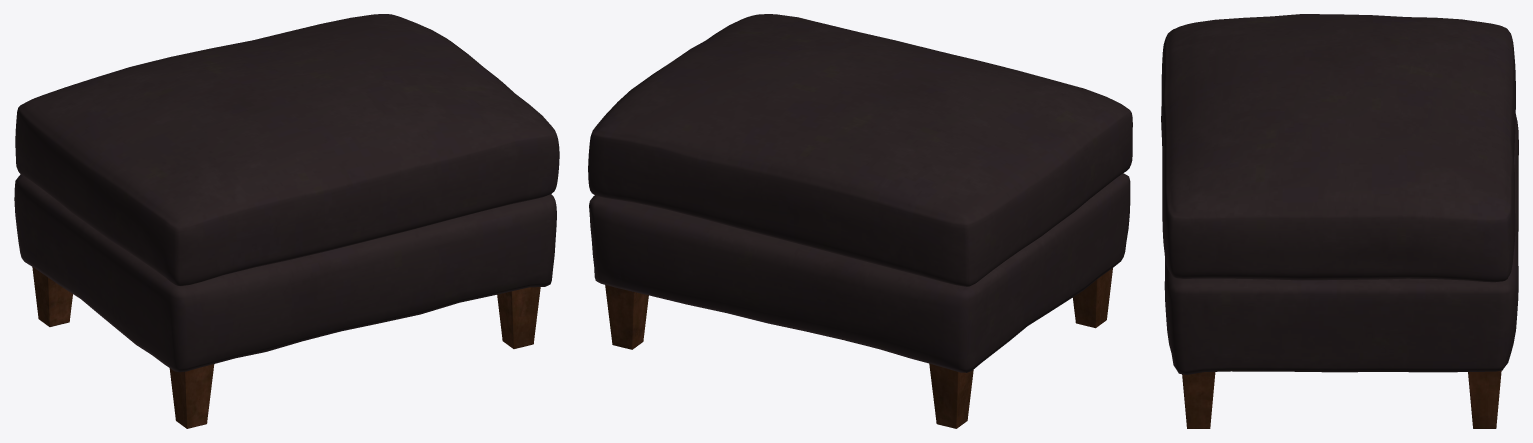
The model's file is office_chair_B07B4CZP57.glb.
3 views of the same model, side by side, from view 1: azimuth 30°, elevation 25°; view 2: azimuth 150°, elevation 25°; view 3: azimuth 270°, elevation 25° (orthographic). The views are drawn at different scales.
Visible parts, largest first — view 1: RootNode; view 2: RootNode; view 3: RootNode.
Boxes of the visible parts, box(x1,y1,x2,y2) form: RootNode: box(14, 14, 559, 428); RootNode: box(588, 14, 1132, 428); RootNode: box(1161, 14, 1518, 428).
Size of the model in its own units: 0.887 by 0.5288 by 0.6586.
Materials: 1 (1 with a texture image).
